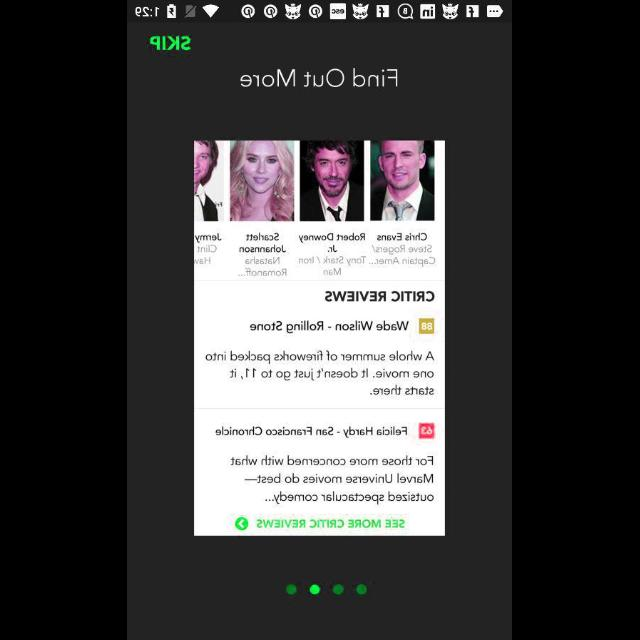image: (194, 142, 446, 536)
pageindicator: (286, 584, 368, 596)
text: (240, 68, 398, 88), (150, 37, 192, 51)
uppertaskbar: (128, 1, 512, 23)
